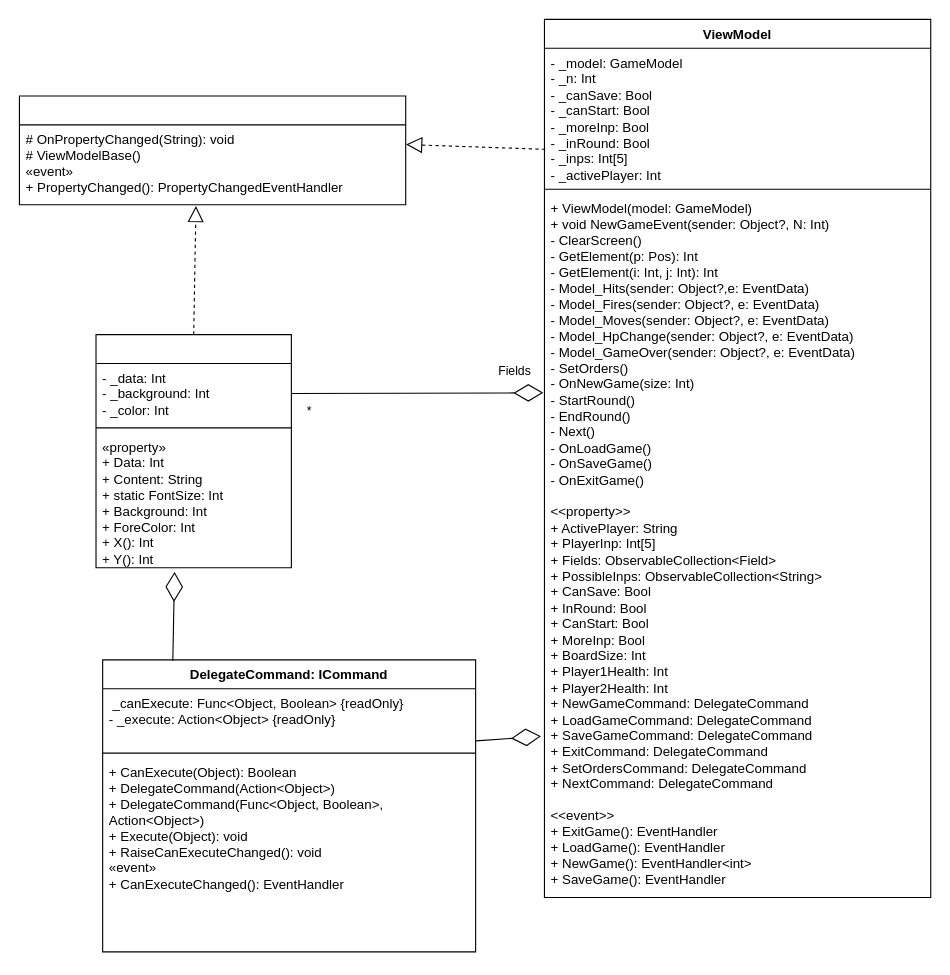
Some shapes in this 950 by 975 pixel diagram are drawn without their labels. The box of each missing label's shape, as (x1, y1, x2, y2) in pixels:
Field: (95, 334, 291, 568)
ViewModelBase: NotifyPropertyChanged: (18, 95, 406, 205)
